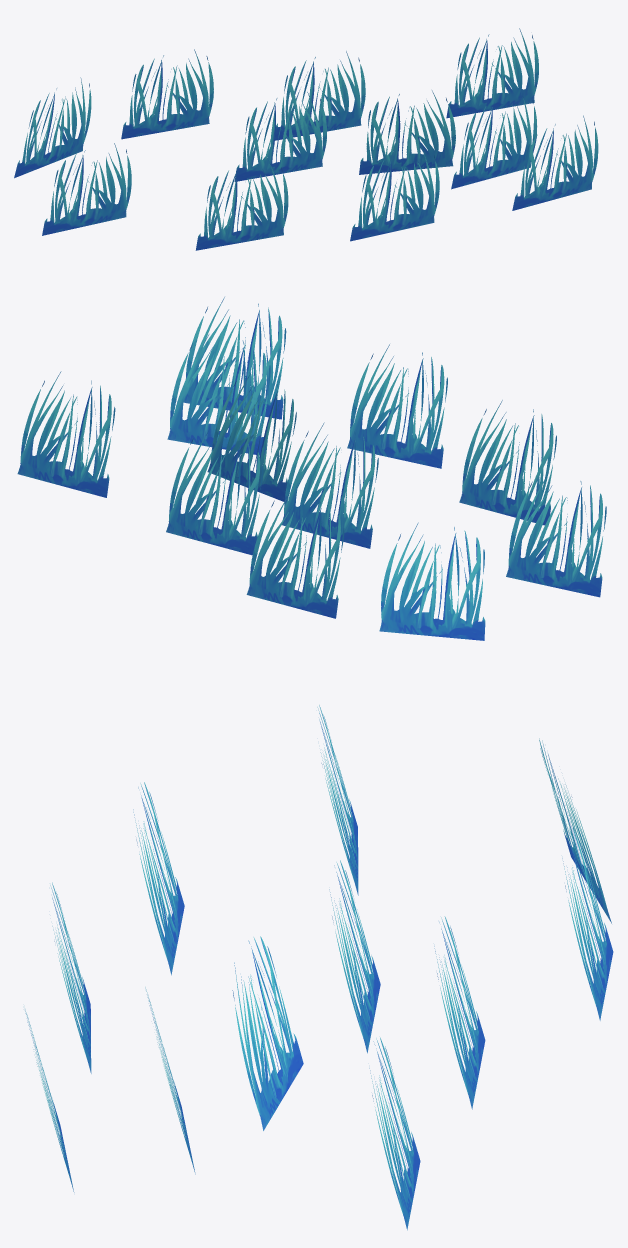
Rendered from M_HerbeGroupe2.FBX.
3 renders of one model, top to bottom at view 1: azimuth 30°, elevation 25°; view 2: azimuth 150°, elevation 25°; view 3: azimuth 270°, elevation 25°, orthographic. The views are drawn at different scales.
Parts seen in each view (by area): view 1: Object491; view 2: Object491; view 3: Object491.
Part boxes in pixels (x1,y1,x2,y2): Object491: [14, 28, 598, 250]; Object491: [17, 297, 606, 640]; Object491: [25, 705, 613, 1230].
Bounding box in the file's own units: 474 × 89.26 × 298.
